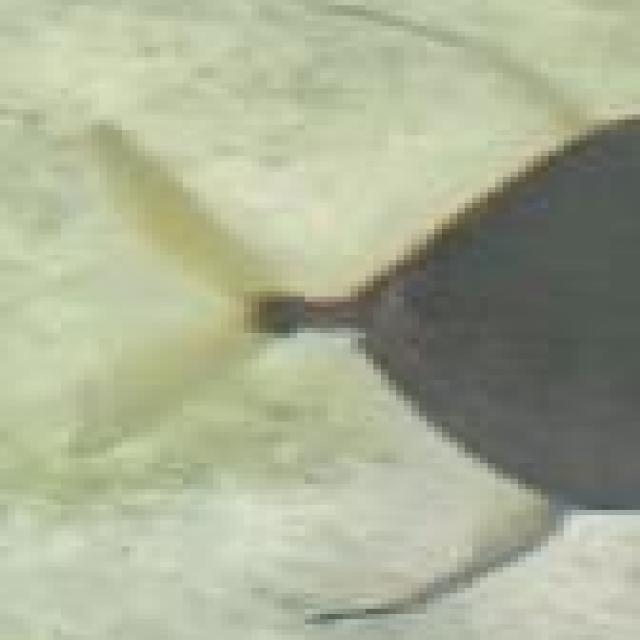fish: (7, 0, 640, 635)
